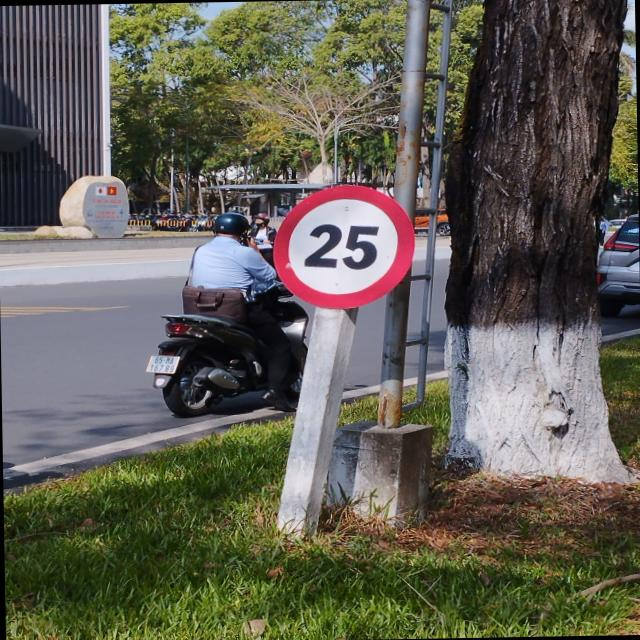Tre_Em: (271, 182, 414, 310)
